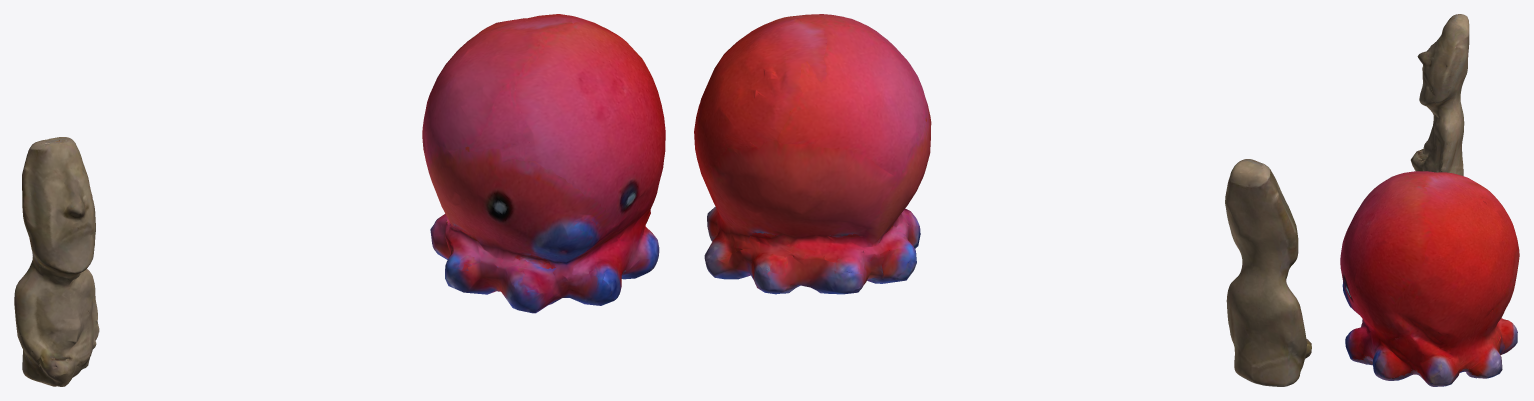
3 views of the same model, side by side, from view 1: azimuth 30°, elevation 25°; view 2: azimuth 150°, elevation 25°; view 3: azimuth 270°, elevation 25° (orthographic). The views are drawn at different scales.
Parts seen in each view (by area): view 1: model_New Qlone_20200509_173521133_4, model_New Qlone_20200509_184836182_1; view 2: model_New Qlone_20200509_173521133_4, model_New Qlone_20200509_184836182_1; view 3: model_New Qlone_20200509_173521133_4, model_New Qlone_20200509_184836182_1.
Boxes of the visible parts, bbox=[...] form: model_New Qlone_20200509_173521133_4: bbox=[422, 14, 665, 313]; model_New Qlone_20200509_184836182_1: bbox=[14, 137, 99, 386]; model_New Qlone_20200509_173521133_4: bbox=[694, 14, 931, 294]; model_New Qlone_20200509_184836182_1: bbox=[1225, 159, 1311, 386]; model_New Qlone_20200509_173521133_4: bbox=[1340, 171, 1519, 386]; model_New Qlone_20200509_184836182_1: bbox=[1410, 14, 1469, 175].
Bounding box in the file's own units: 5.08 × 1.93 × 1.73.
Materials: 2 (2 with a texture image).
